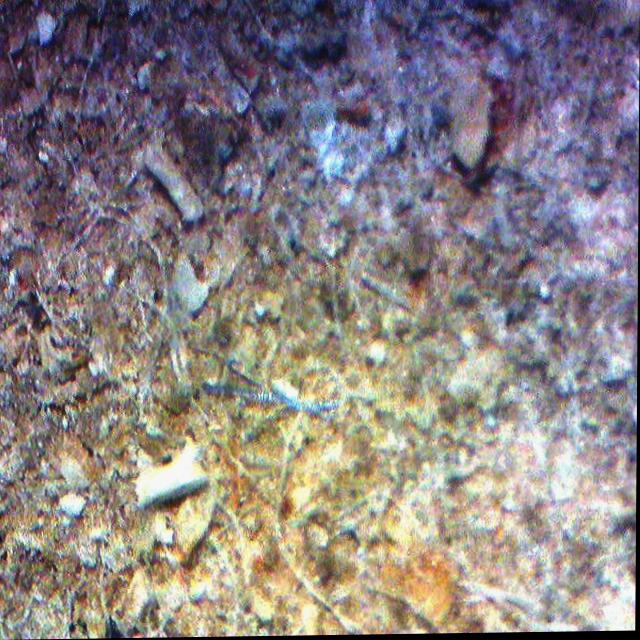microplastic: (201, 380, 339, 435)
